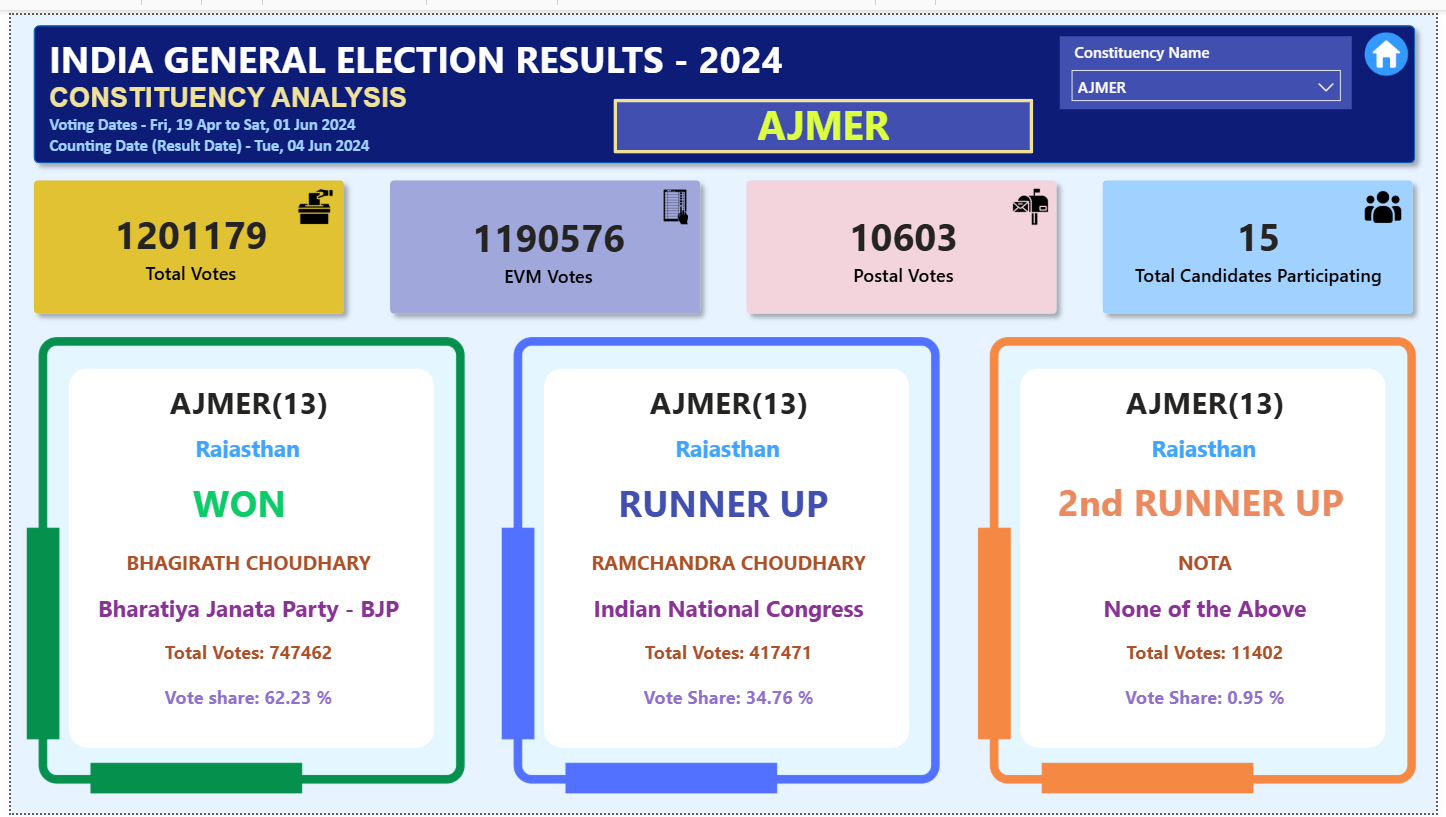

This screenshot's page, from the dashboard's own definition file:
{"tool":"powerbi","page":{"name":"Constituency Analysis","canvas":[1250,700],"ordinal":4},"visuals":[{"type":"shape","box":[11,0,1229,139],"z":0},{"type":"textbox","box":[28,12,672,118],"z":1000},{"type":"shape","box":[11,136,290,135],"z":2000},{"type":"slicer","fields":{"Values":["constituencywise_results.Constituency Name"]},"box":[919,19,256,64],"z":3000},{"type":"shape","box":[528,73,368,48],"z":4000},{"type":"cardVisual","fields":{"Data":["Min(constituencywise_results.Constituency Name)"]},"box":[528,70,368,48],"z":5000},{"type":"shape","box":[323.3,136,290,135],"z":6000},{"type":"shape","box":[948,136,290,135],"z":7000},{"type":"shape","box":[635.7,136,290,135],"z":8000},{"type":"cardVisual","fields":{"Data":["Sum(constituencywise_details.Total Votes)"]},"box":[20,145,276,117],"z":9000},{"type":"cardVisual","fields":{"Data":["Sum(constituencywise_details.EVM Votes)"]},"box":[333,147,276,117],"z":10000},{"type":"cardVisual","fields":{"Data":["Sum(constituencywise_details.Postal Votes)"]},"box":[644,146,276,117],"z":11000},{"type":"cardVisual","fields":{"Data":["CountNonNull(constituencywise_details.Constituency ID)"]},"box":[956,146,276,117],"z":12000},{"type":"image","box":[878,152,32,32],"z":13000},{"type":"image","box":[567,152,32,32],"z":14000},{"type":"image","box":[1187,152,32,32],"z":15000},{"type":"image","box":[251,152,32,32],"z":16000},{"type":"image","box":[11,270,400,425],"z":17000},{"type":"cardVisual","fields":{"Data":["Min(constituencywise_results.Parliament Constituency)"]},"box":[49,313,319,48],"z":18000},{"type":"cardVisual","fields":{"Data":["constituencywise_details.State Secondary KPI"]},"box":[95,362,224,32],"z":19000},{"type":"textbox","box":[96,401,208,64],"z":20000},{"type":"cardVisual","fields":{"Data":["Min(constituencywise_results.Winning Candidate)"]},"box":[48,462,320,32],"z":21000},{"type":"cardVisual","fields":{"Data":["Min(constituencywise_results.Party Name (Result))"]},"box":[48,494,320,48],"z":22000},{"type":"cardVisual","fields":{"Data":["constituencywise_details.Total Votes KPI"]},"box":[48,533,320,48],"z":23000},{"type":"cardVisual","fields":{"Data":["constituencywise_details.Vote Share KPI"]},"box":[48,572,320,48],"z":24000},{"type":"image","box":[427,270,400,425],"z":25000},{"type":"image","box":[845,270,400,425],"z":26000},{"type":"cardVisual","fields":{"Data":["Min(constituencywise_results.Parliament Constituency)"]},"box":[469.7,313,319,48],"z":27000},{"type":"cardVisual","fields":{"Data":["constituencywise_details.State Secondary KPI"]},"box":[515.7,362,224,32],"z":28000},{"type":"textbox","box":[521,401,208,64],"z":29000},{"type":"cardVisual","fields":{"Data":["constituencywise_details.Runner Up Candidate"]},"box":[468.7,462,320,32],"z":30000},{"type":"cardVisual","fields":{"Data":["constituencywise_details.Runner Up Party"]},"box":[468.7,494,320,48],"z":31000},{"type":"cardVisual","fields":{"Data":["constituencywise_details.Runner Up Votes"]},"box":[468.7,533,320,48],"z":32000},{"type":"cardVisual","fields":{"Data":["constituencywise_details.Runner Up % Votes"]},"box":[468.7,572,320,48],"z":33000},{"type":"cardVisual","fields":{"Data":["Min(constituencywise_results.Parliament Constituency)"]},"box":[887.7,313,319,48],"z":34000},{"type":"cardVisual","fields":{"Data":["constituencywise_details.State Secondary KPI"]},"box":[933.7,362,224,32],"z":35000},{"type":"textbox","box":[893,400,300,64],"z":36000},{"type":"cardVisual","fields":{"Data":["constituencywise_details.Second Runner Up Candidate"]},"box":[886.7,462,320,32],"z":37000},{"type":"cardVisual","fields":{"Data":["constituencywise_details.Second Runner Up Party"]},"box":[886.7,494,320,48],"z":38000},{"type":"cardVisual","fields":{"Data":["constituencywise_details.Second Runner Up Total Votes"]},"box":[886.7,533,320,48],"z":39000},{"type":"cardVisual","fields":{"Data":["constituencywise_details.Second Runner Up % Votes"]},"box":[886.7,572,320,48],"z":40000},{"type":"image","box":[1186,14,40,40],"z":41000}]}

Visuals, with their boxes in screenshot pixels (x1, y1, x2, y2), scaled from the page's 1250x700 canvas onto the 1446x817 screenshot:
shape: pyautogui.locateOnScreen(13, 0, 1434, 162)
textbox: pyautogui.locateOnScreen(32, 14, 810, 152)
shape: pyautogui.locateOnScreen(13, 159, 348, 316)
slicer - constituencywise_results.Constituency Name: pyautogui.locateOnScreen(1063, 22, 1359, 97)
shape: pyautogui.locateOnScreen(611, 85, 1036, 141)
cardVisual - Min(constituencywise_results.Constituency Name): pyautogui.locateOnScreen(611, 82, 1036, 138)
shape: pyautogui.locateOnScreen(374, 159, 709, 316)
shape: pyautogui.locateOnScreen(1097, 159, 1432, 316)
shape: pyautogui.locateOnScreen(735, 159, 1071, 316)
cardVisual - Sum(constituencywise_details.Total Votes): pyautogui.locateOnScreen(23, 169, 342, 306)
cardVisual - Sum(constituencywise_details.EVM Votes): pyautogui.locateOnScreen(385, 172, 704, 308)
cardVisual - Sum(constituencywise_details.Postal Votes): pyautogui.locateOnScreen(745, 170, 1064, 307)
cardVisual - CountNonNull(constituencywise_details.Constituency ID): pyautogui.locateOnScreen(1106, 170, 1425, 307)
image: pyautogui.locateOnScreen(1016, 177, 1053, 215)
image: pyautogui.locateOnScreen(656, 177, 693, 215)
image: pyautogui.locateOnScreen(1373, 177, 1410, 215)
image: pyautogui.locateOnScreen(290, 177, 327, 215)
image: pyautogui.locateOnScreen(13, 315, 475, 811)
cardVisual - Min(constituencywise_results.Parliament Constituency): pyautogui.locateOnScreen(57, 365, 426, 421)
cardVisual - constituencywise_details.State Secondary KPI: pyautogui.locateOnScreen(110, 423, 369, 460)
textbox: pyautogui.locateOnScreen(111, 468, 352, 543)
cardVisual - Min(constituencywise_results.Winning Candidate): pyautogui.locateOnScreen(56, 539, 426, 577)
cardVisual - Min(constituencywise_results.Party Name (Result)): pyautogui.locateOnScreen(56, 577, 426, 633)
cardVisual - constituencywise_details.Total Votes KPI: pyautogui.locateOnScreen(56, 622, 426, 678)
cardVisual - constituencywise_details.Vote Share KPI: pyautogui.locateOnScreen(56, 668, 426, 724)
image: pyautogui.locateOnScreen(494, 315, 957, 811)
image: pyautogui.locateOnScreen(977, 315, 1440, 811)
cardVisual - Min(constituencywise_results.Parliament Constituency): pyautogui.locateOnScreen(543, 365, 912, 421)
cardVisual - constituencywise_details.State Secondary KPI: pyautogui.locateOnScreen(597, 423, 856, 460)
textbox: pyautogui.locateOnScreen(603, 468, 843, 543)
cardVisual - constituencywise_details.Runner Up Candidate: pyautogui.locateOnScreen(542, 539, 912, 577)
cardVisual - constituencywise_details.Runner Up Party: pyautogui.locateOnScreen(542, 577, 912, 633)
cardVisual - constituencywise_details.Runner Up Votes: pyautogui.locateOnScreen(542, 622, 912, 678)
cardVisual - constituencywise_details.Runner Up % Votes: pyautogui.locateOnScreen(542, 668, 912, 724)
cardVisual - Min(constituencywise_results.Parliament Constituency): pyautogui.locateOnScreen(1027, 365, 1396, 421)
cardVisual - constituencywise_details.State Secondary KPI: pyautogui.locateOnScreen(1080, 423, 1339, 460)
textbox: pyautogui.locateOnScreen(1033, 467, 1380, 542)
cardVisual - constituencywise_details.Second Runner Up Candidate: pyautogui.locateOnScreen(1026, 539, 1396, 577)
cardVisual - constituencywise_details.Second Runner Up Party: pyautogui.locateOnScreen(1026, 577, 1396, 633)
cardVisual - constituencywise_details.Second Runner Up Total Votes: pyautogui.locateOnScreen(1026, 622, 1396, 678)
cardVisual - constituencywise_details.Second Runner Up % Votes: pyautogui.locateOnScreen(1026, 668, 1396, 724)
image: pyautogui.locateOnScreen(1372, 16, 1418, 63)
